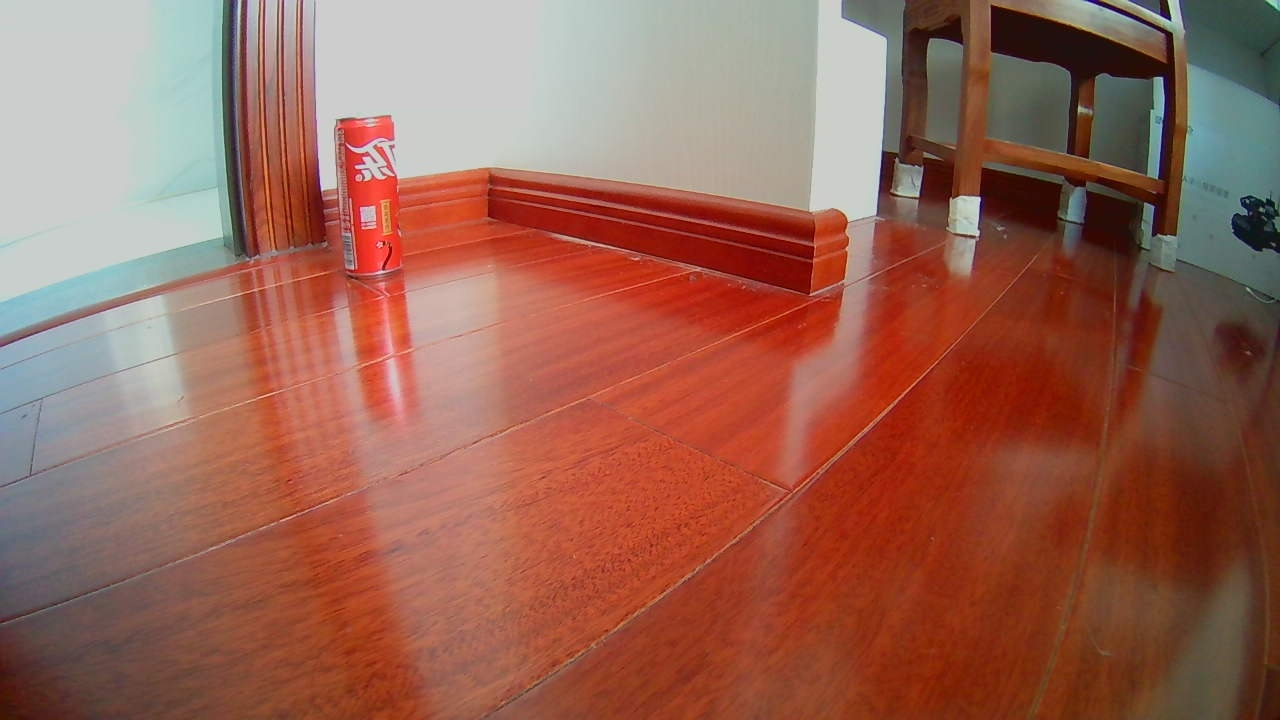cola: (335, 118, 404, 281)
